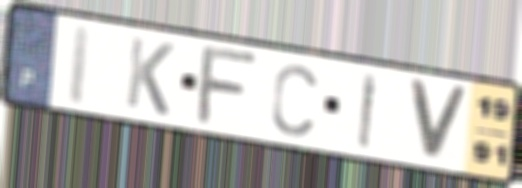C: (268, 60, 320, 139)
F: (192, 44, 264, 127)
I: (63, 21, 96, 109), (356, 70, 382, 152)
K: (122, 33, 177, 120)
V: (405, 75, 472, 165)
